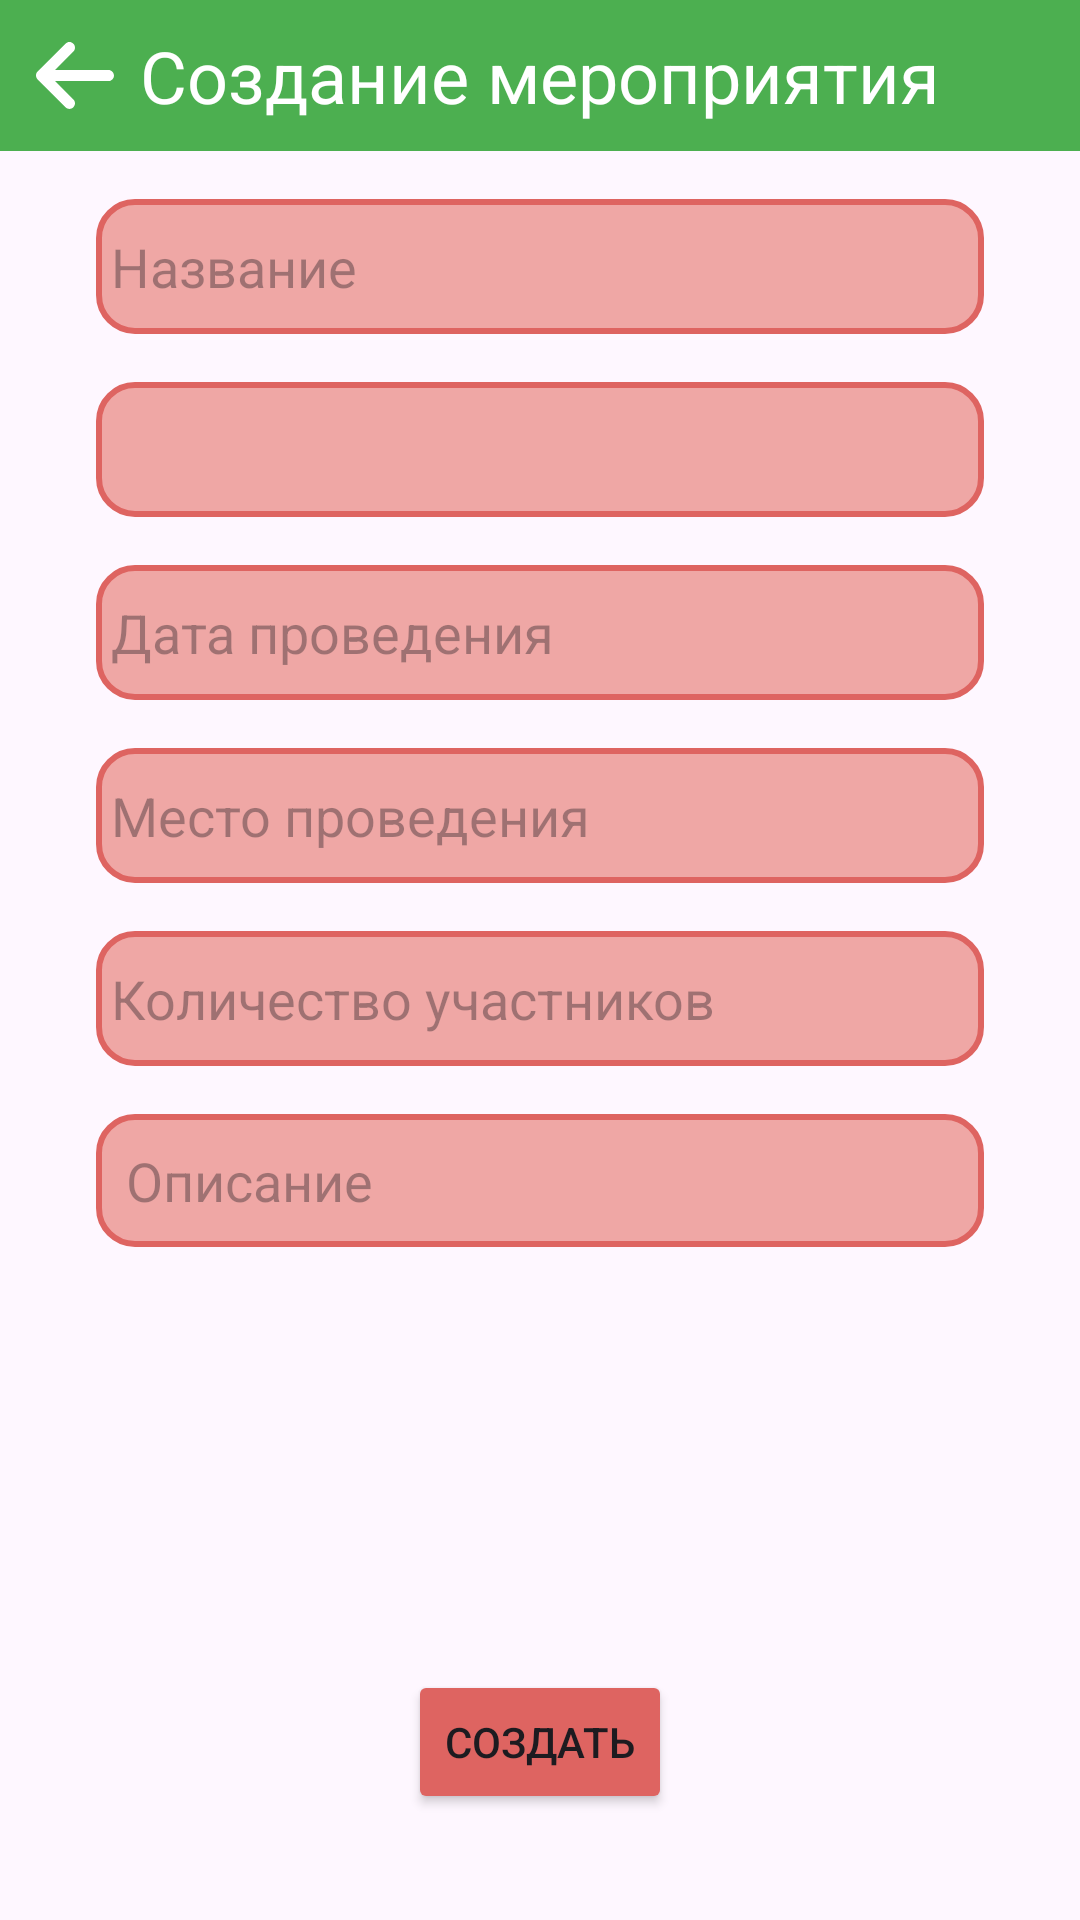

Screen size 1080x1920. Icon name, then its box in pixels as {"left": x1, "top": y1, "right": x2, "bottom": y2}:
arrow left: {"left": 36, "top": 42, "right": 114, "bottom": 109}
